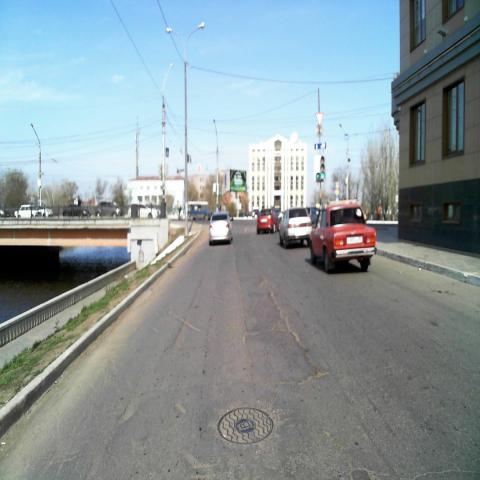6_15_1: (314, 141, 326, 150)
